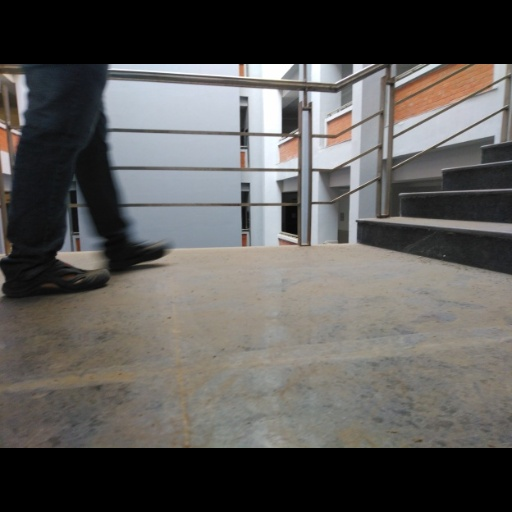Stairs: (357, 142, 512, 274)
